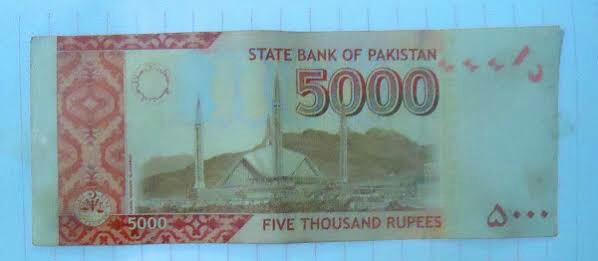5000 rupee: (31, 30, 577, 255)
